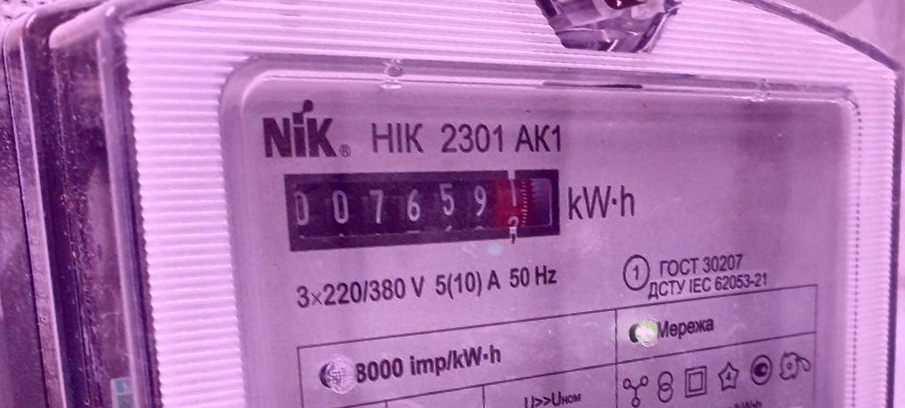0: (324, 182, 353, 226), (285, 184, 313, 227)
1: (502, 175, 522, 210)
5: (434, 177, 458, 217)
6: (399, 182, 424, 223)
7: (364, 183, 387, 225)
9: (468, 180, 489, 218)
screen: (270, 132, 575, 284)
